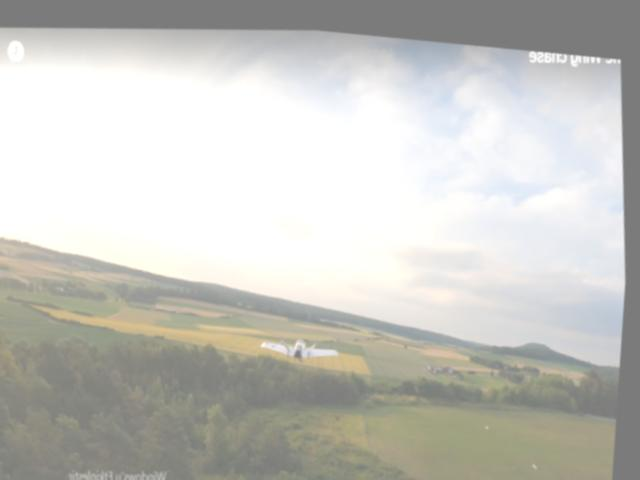plane: (265, 326, 344, 359)
